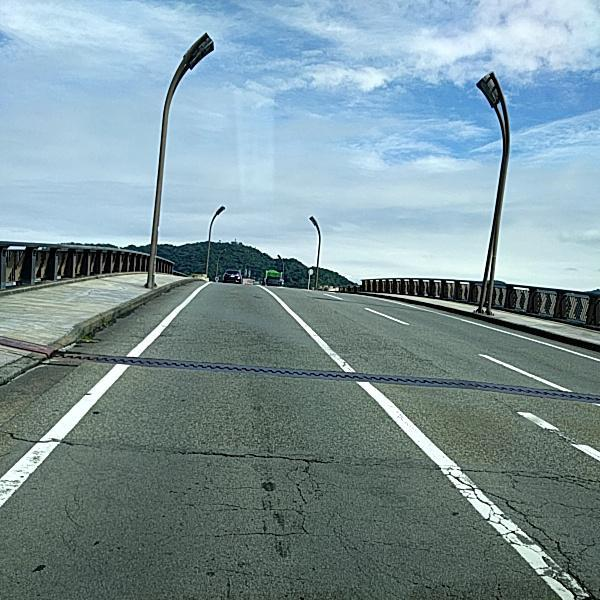D20: (190, 466, 359, 589), (445, 470, 599, 599)
